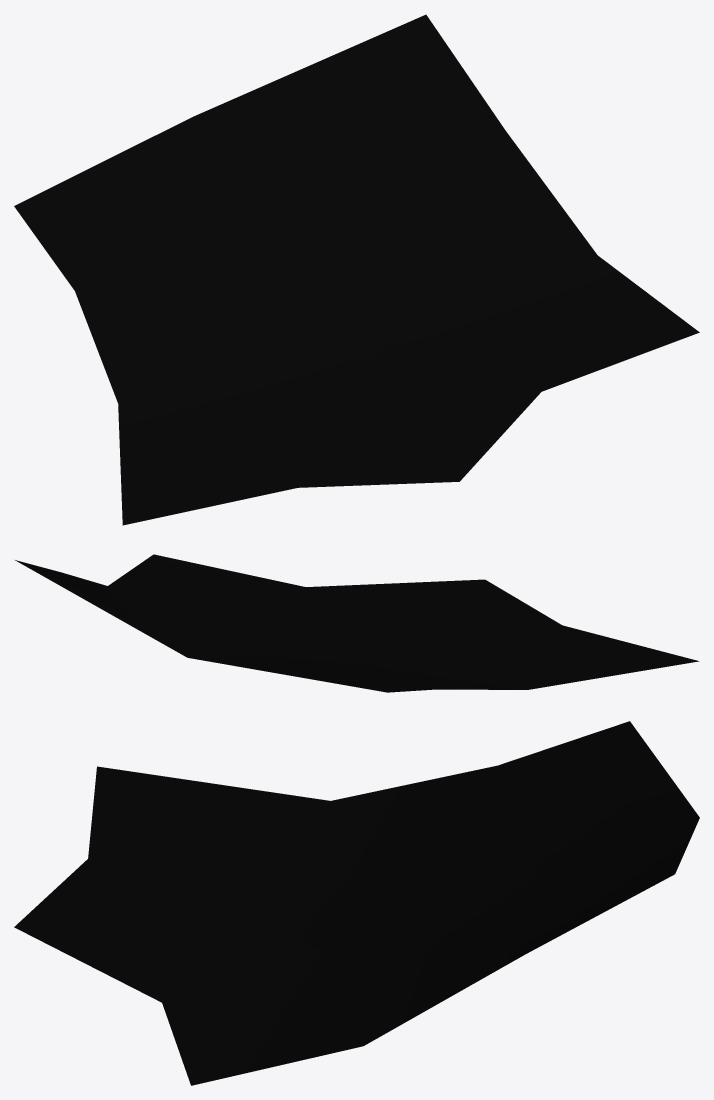
File: HTOWN01_TREESHADOWS32.fbx
3 views of the same model, one above another, from view 1: azimuth 30°, elevation 25°; view 2: azimuth 150°, elevation 25°; view 3: azimuth 270°, elevation 25° (orthographic). The views are drawn at different scales.
Parts seen in each view (by area): view 1: HTOWN01_TREESHADOWS32; view 2: HTOWN01_TREESHADOWS32; view 3: HTOWN01_TREESHADOWS32.
Boxes of the visible parts, x1=… form: HTOWN01_TREESHADOWS32: x1=14, y1=14, x2=699, y2=525; HTOWN01_TREESHADOWS32: x1=15, y1=554, x2=698, y2=692; HTOWN01_TREESHADOWS32: x1=14, y1=721, x2=699, y2=1085.
Bounding box in the file's own units: 194709 × 53982 × 170829.
Materials: 1 (1 with a texture image).
